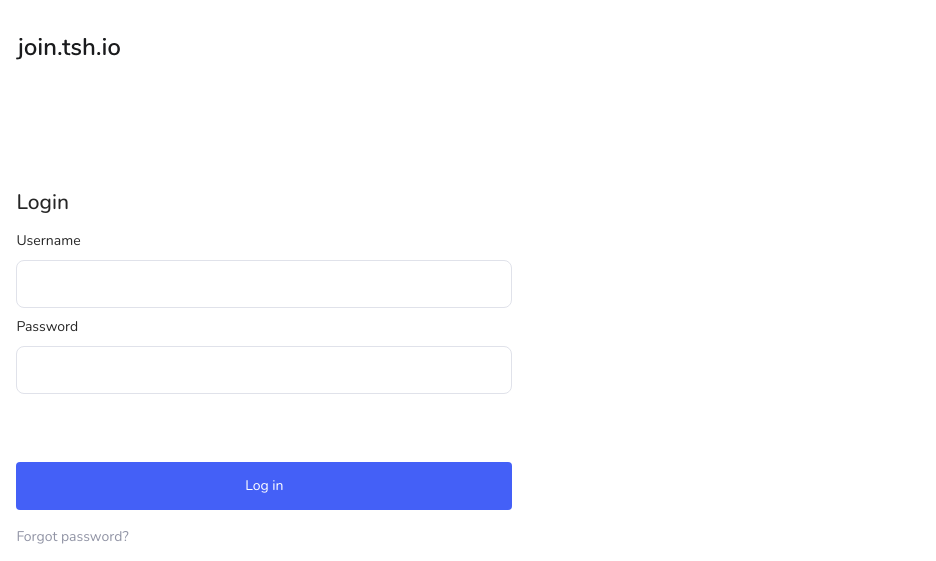
Scenario: LoginForm › Show Error notification after passing wrong credentials
Type "staszek9" into the field with test id "input-text-field" showing "Username".
click(264, 284); type("staszek9")  # box [16,260,512,308]
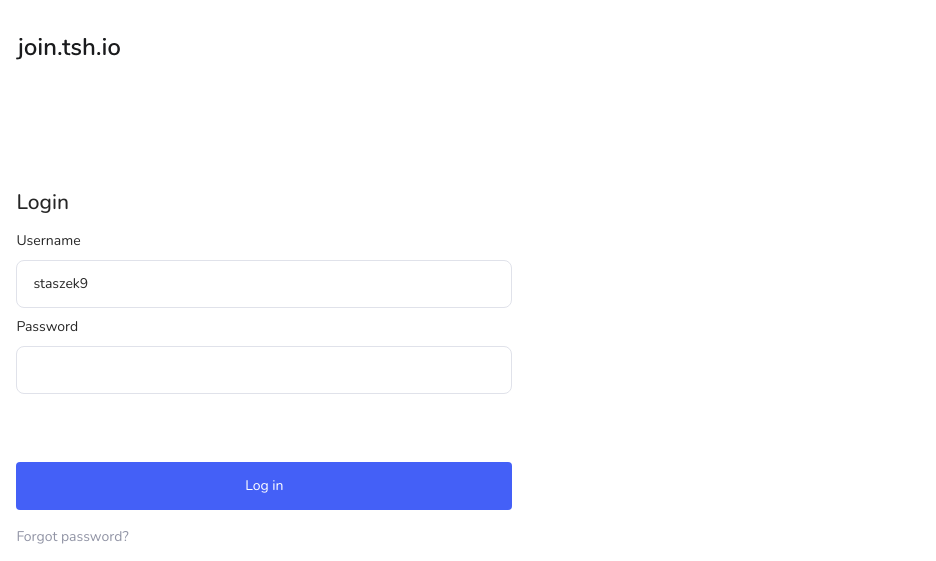
Type "asdadsa" into the password field with test id "input-text-field" showing "Password".
click(264, 370); type("asdadsa")  # box [16,346,512,394]
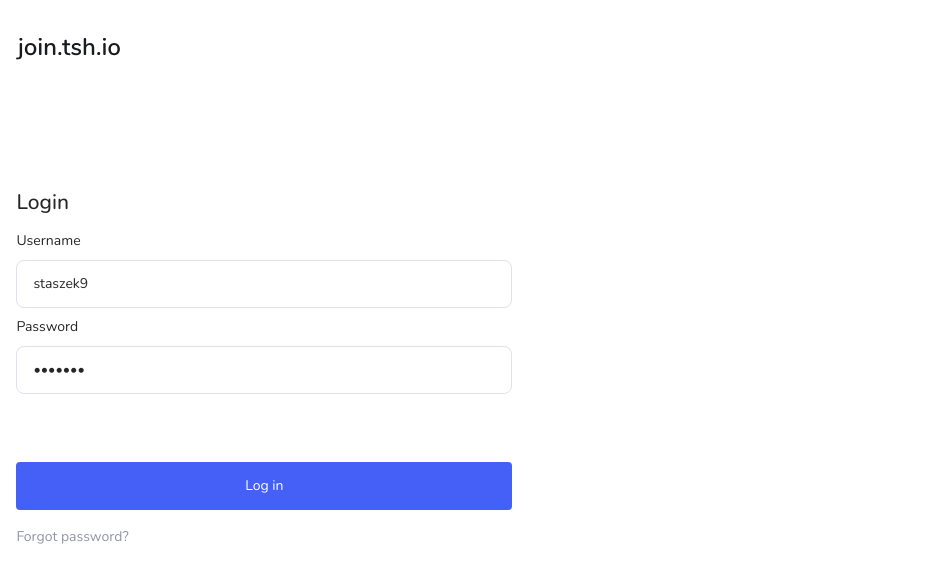
Click the button with test id "login-button".
click(264, 486)  # box [16,462,512,510]
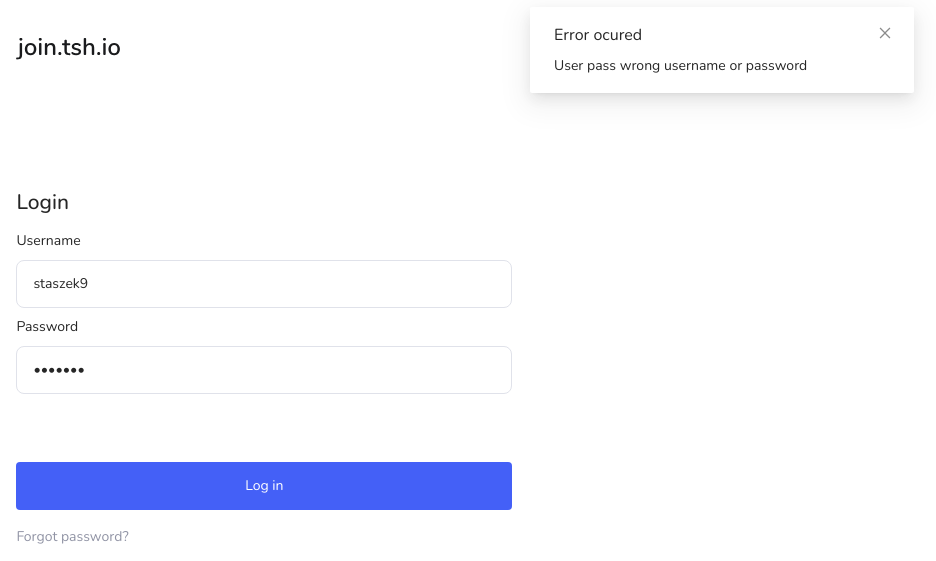
Expected: the text "User pass wrong username or password" is shown, [554,56,807,75]
